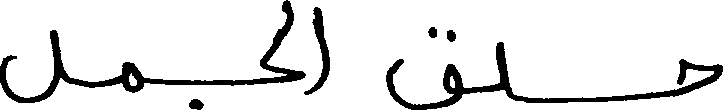ا: (309, 4, 331, 94)
ج: (185, 62, 303, 109)
ح: (674, 56, 721, 96)
ق: (384, 25, 464, 108)
ل: (0, 28, 63, 103), (258, 0, 306, 56), (494, 40, 512, 100)
م: (122, 59, 145, 93)
